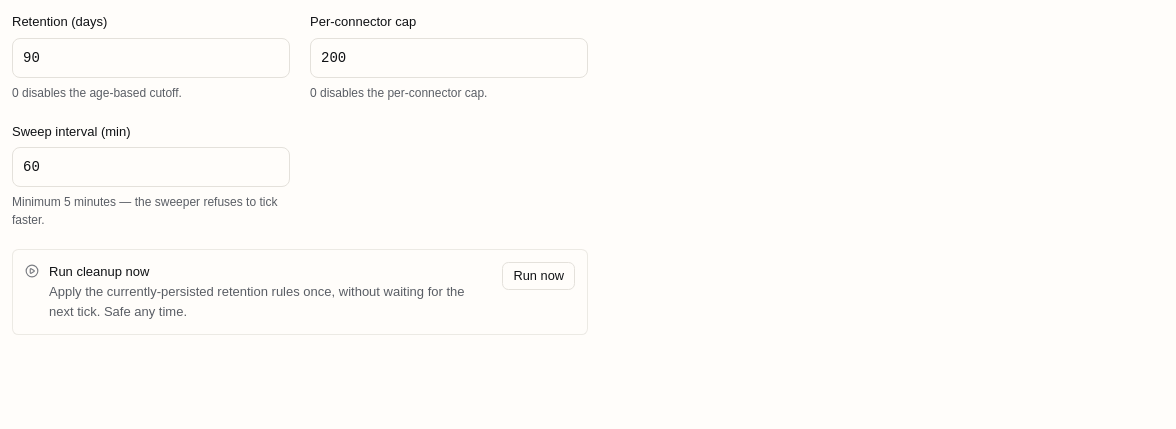
Test: RetentionForm › Revert discards the draft
The width and height of the screenshot is (1176, 429).
Replace the text in the number field below "Retention (days)" with "7" at (151, 58), box top-left (12, 38), bottom-right (290, 78)
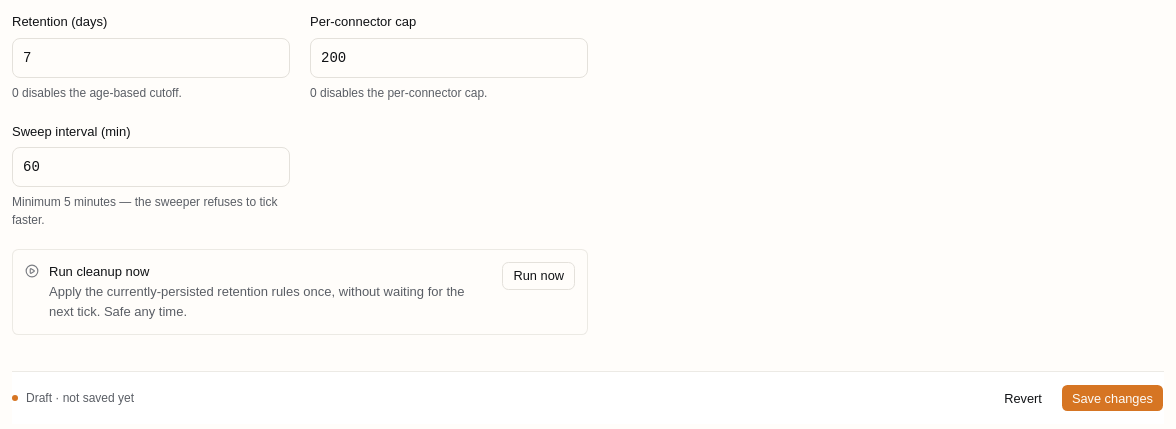
Click the button "Revert" at (1023, 398), box top-left (993, 384), bottom-right (1053, 412)
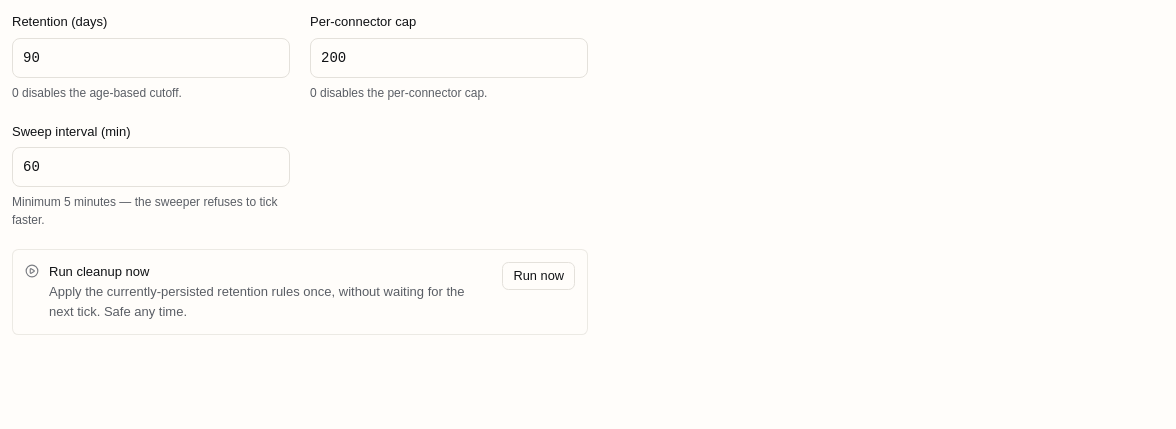
Check: the button "Save changes" is gone
Check: the number field below "Retention (days)" holds "90", box top-left (12, 38), bottom-right (290, 78)
